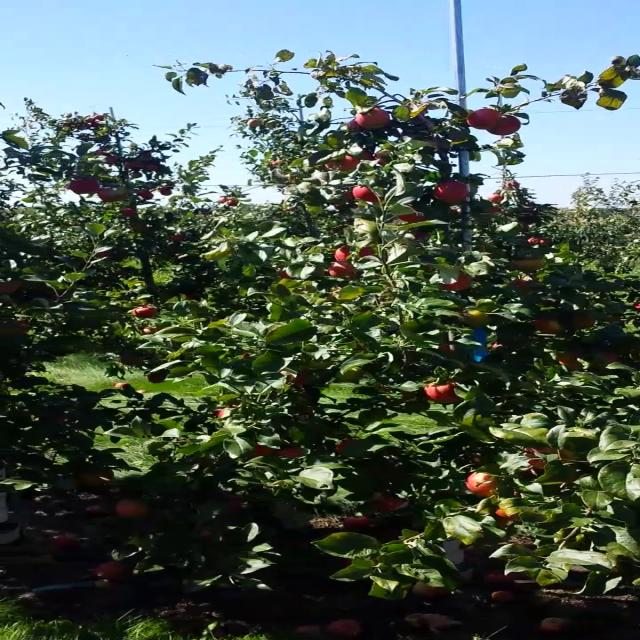apple: (521, 448, 579, 470), (432, 180, 468, 206), (425, 382, 463, 404), (466, 472, 498, 498), (76, 468, 115, 488), (487, 114, 522, 136), (355, 106, 390, 128), (467, 109, 501, 131), (334, 245, 374, 262), (118, 498, 150, 518), (327, 154, 360, 172), (68, 177, 100, 195), (443, 274, 473, 292), (329, 261, 358, 279), (351, 185, 378, 203), (0, 320, 30, 336), (534, 318, 568, 332), (396, 208, 428, 222), (553, 351, 581, 367), (381, 496, 409, 512), (462, 311, 491, 325), (278, 371, 303, 387), (513, 258, 545, 270), (493, 508, 520, 522), (335, 438, 357, 454), (337, 367, 362, 381), (343, 516, 372, 528), (566, 316, 595, 328), (250, 442, 274, 456), (132, 305, 156, 319), (222, 498, 243, 514), (509, 280, 535, 292), (347, 118, 372, 130), (276, 447, 302, 457), (375, 150, 391, 166), (98, 188, 113, 203), (139, 324, 161, 334), (146, 374, 167, 384), (358, 148, 375, 160), (0, 283, 24, 291), (407, 232, 430, 240), (120, 355, 137, 365), (602, 353, 618, 363), (578, 336, 596, 344), (278, 270, 292, 280), (436, 344, 450, 352), (216, 409, 225, 417)
